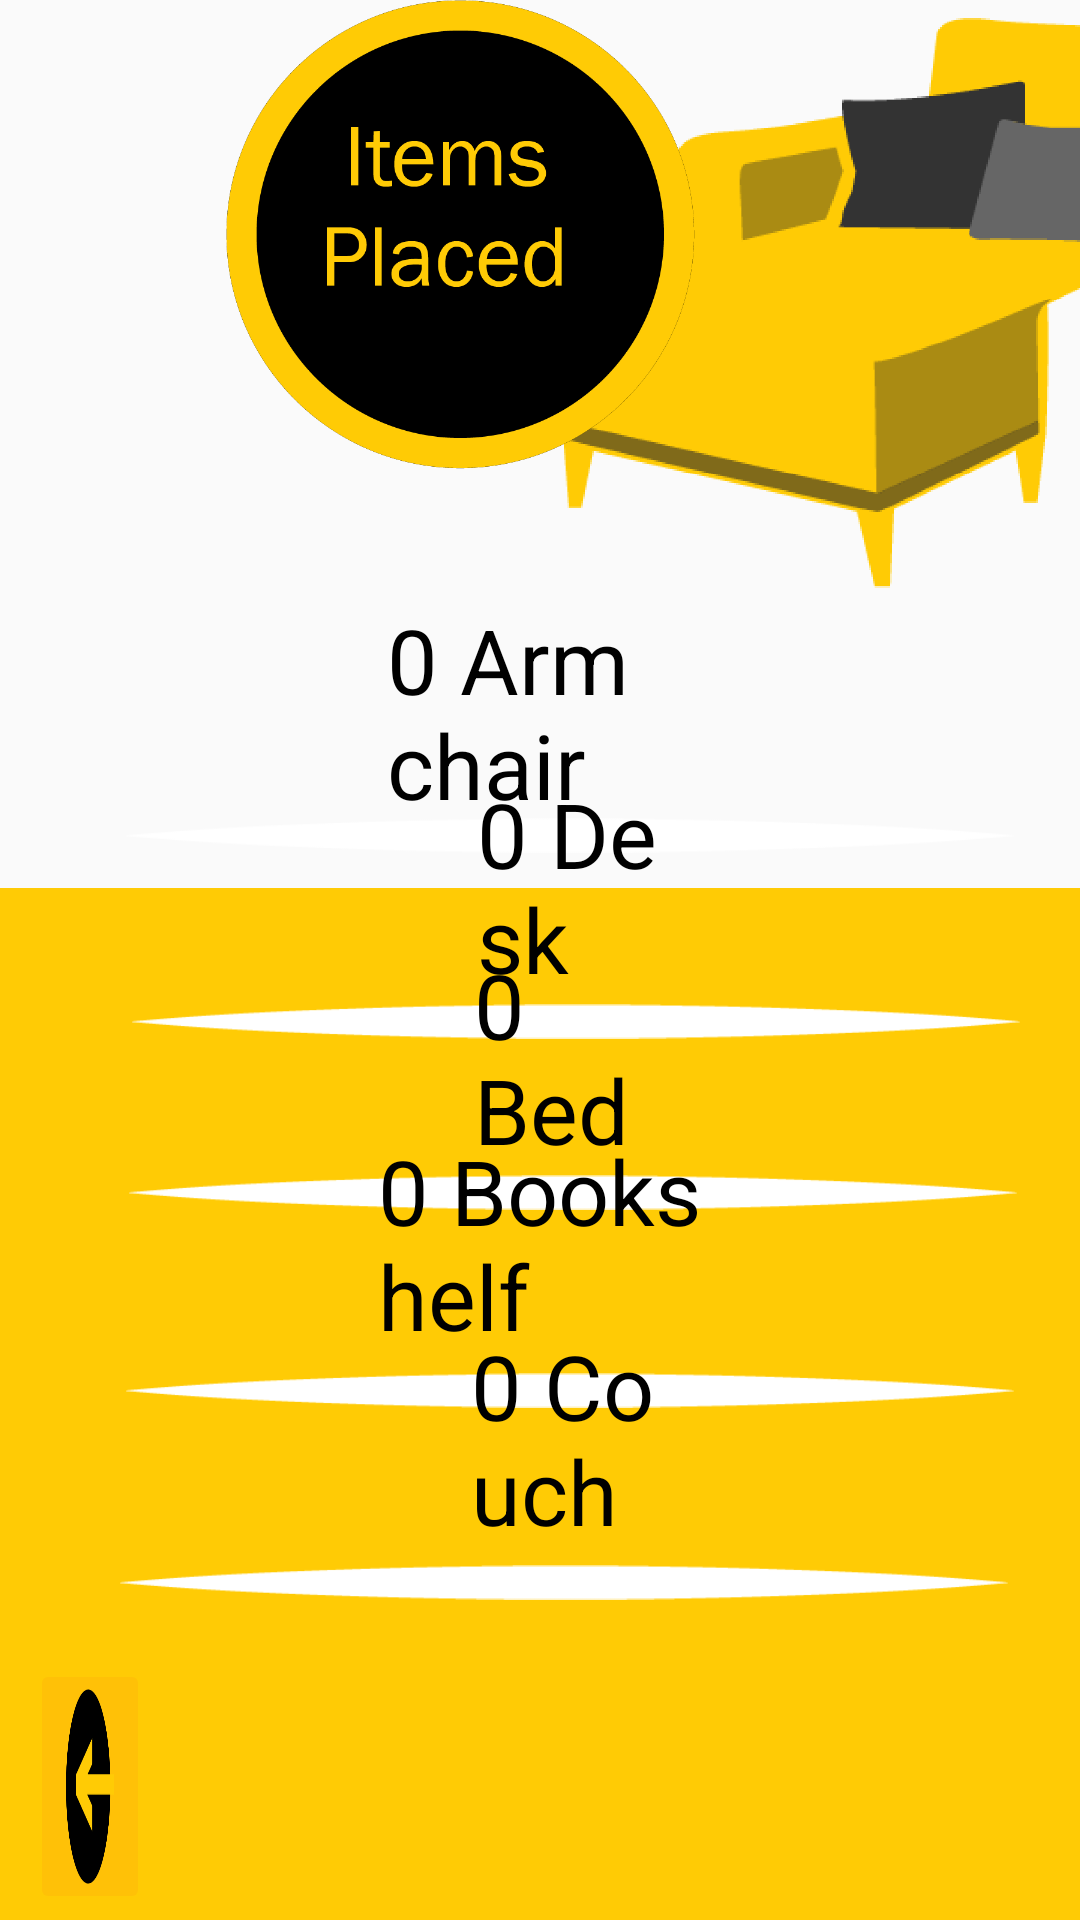

Where icons sit on this 1080px×1920px app screen, as (x1, y1, x2, y2):
back: (66, 1689, 110, 1884)
